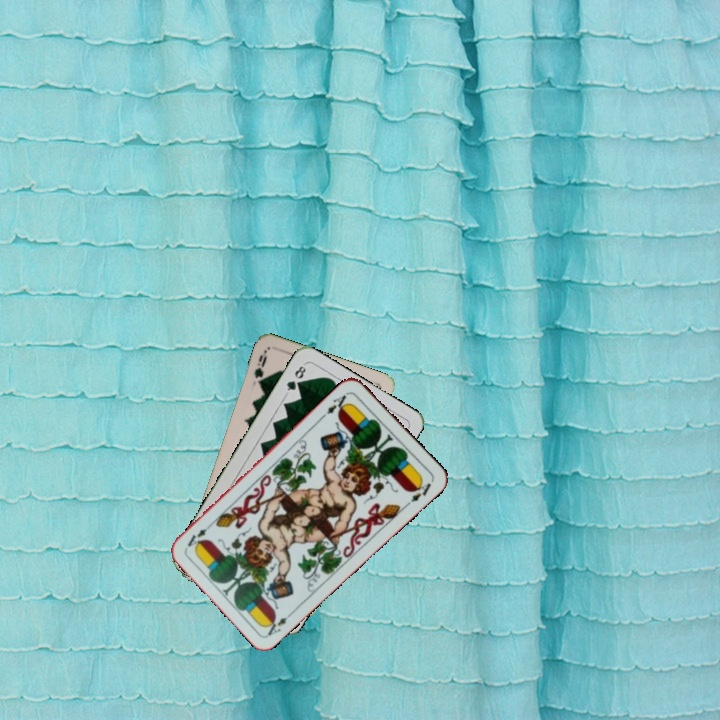EA: (261, 607, 296, 639), (322, 388, 352, 417)
G8: (282, 360, 308, 397)
G9: (250, 347, 269, 388)
